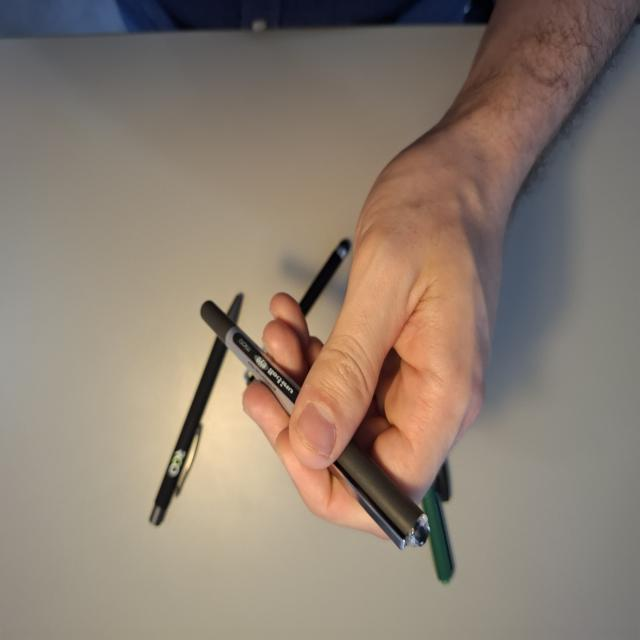glove_off: (240, 156, 512, 544)
